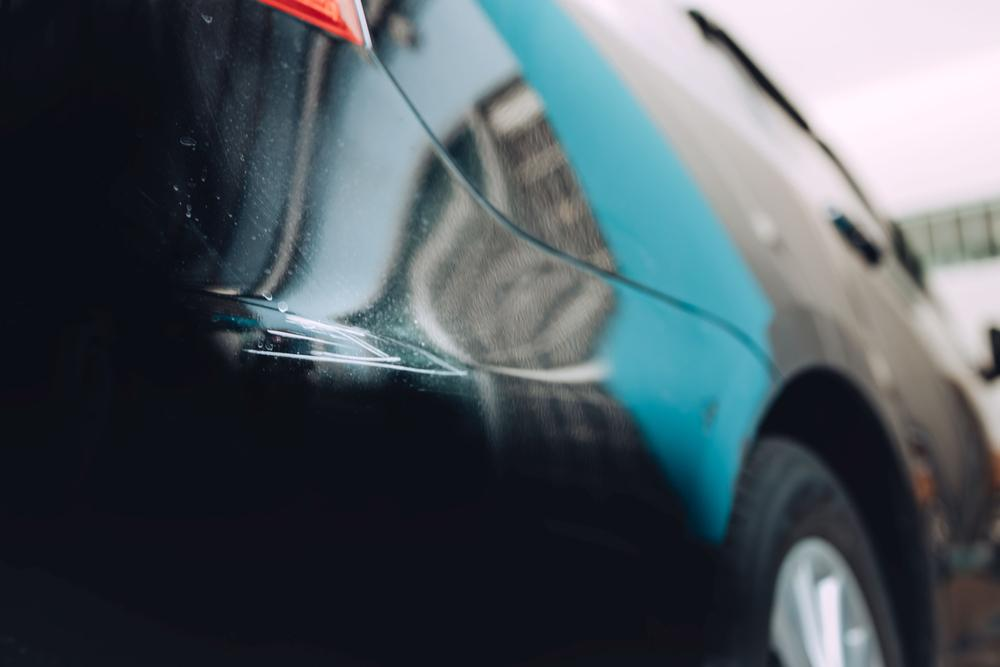scratch: (233, 309, 481, 386)
